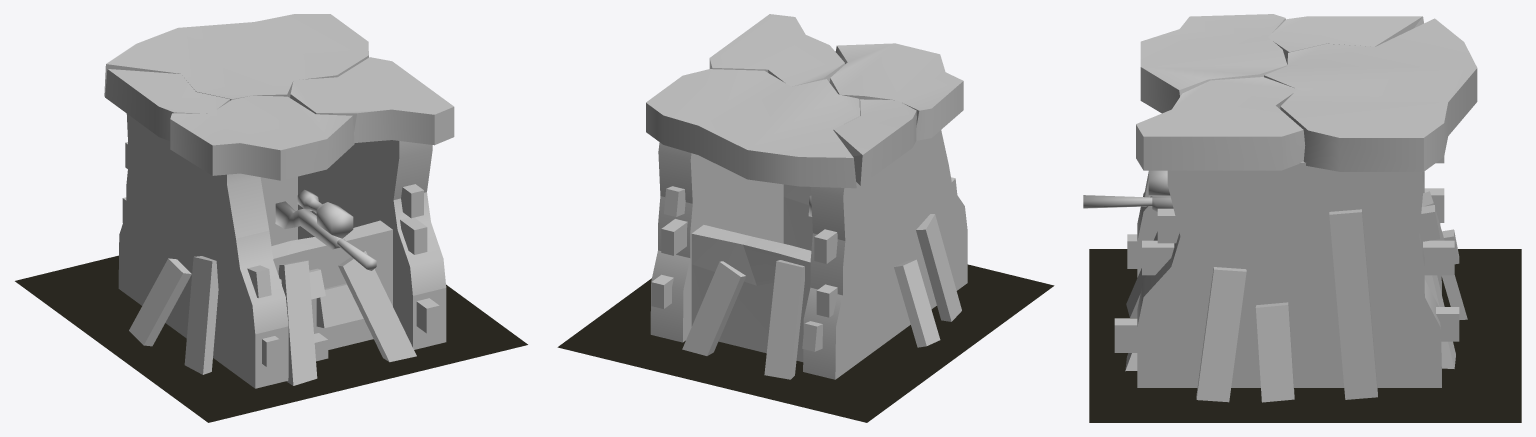
The model's file is Fortress_07.FBX.
The picture shows the model from 3 angles, left to right: view 1: azimuth 30°, elevation 25°; view 2: azimuth 150°, elevation 25°; view 3: azimuth 270°, elevation 25°; orthographic projection. The views are drawn at different scales.
Visible parts, largest first — view 1: Box244, Plane054; view 2: Box244, Plane054; view 3: Box244, Plane054.
Part boxes in pixels (x1=…): Box244: x1=104, y1=14, x2=454, y2=388; Plane054: x1=15, y1=255, x2=527, y2=422; Box244: x1=646, y1=14, x2=967, y2=379; Plane054: x1=557, y1=264, x2=1054, y2=422; Box244: x1=1083, y1=14, x2=1477, y2=402; Plane054: x1=1089, y1=249, x2=1521, y2=422.
Size of the model in its own units: 440 by 340 by 468.
